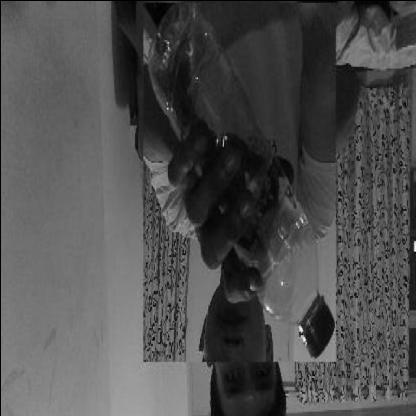plastic_bottles: (143, 0, 335, 360)
